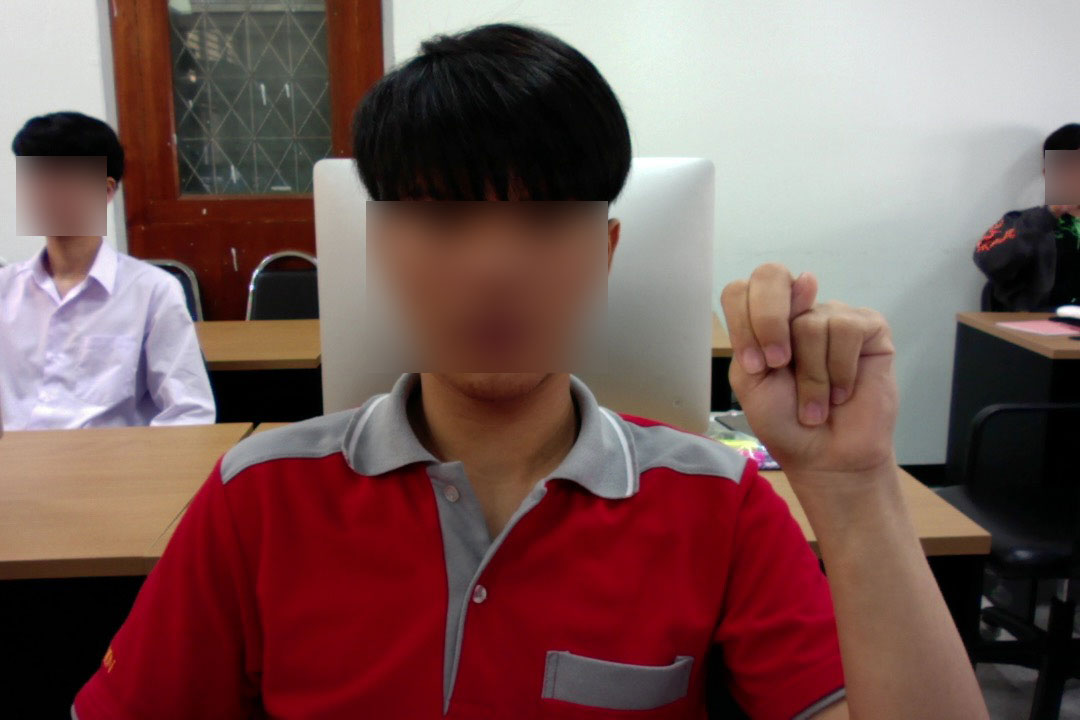nor: (714, 259, 904, 500)
